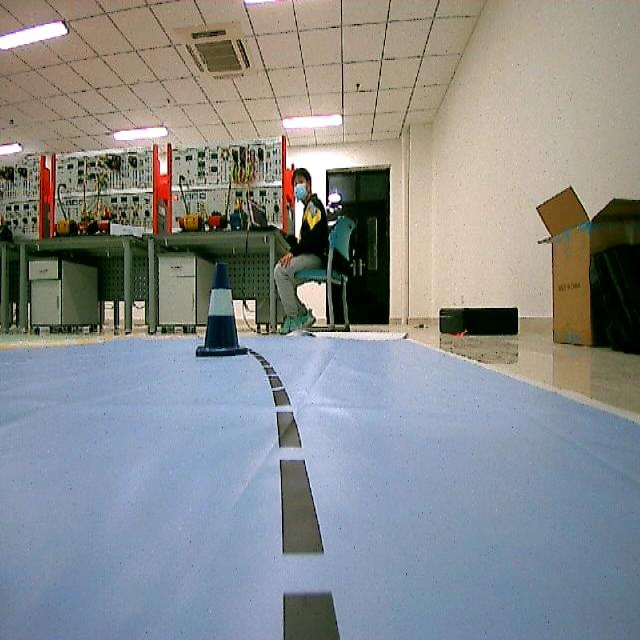obstacle: (192, 258, 244, 364)
